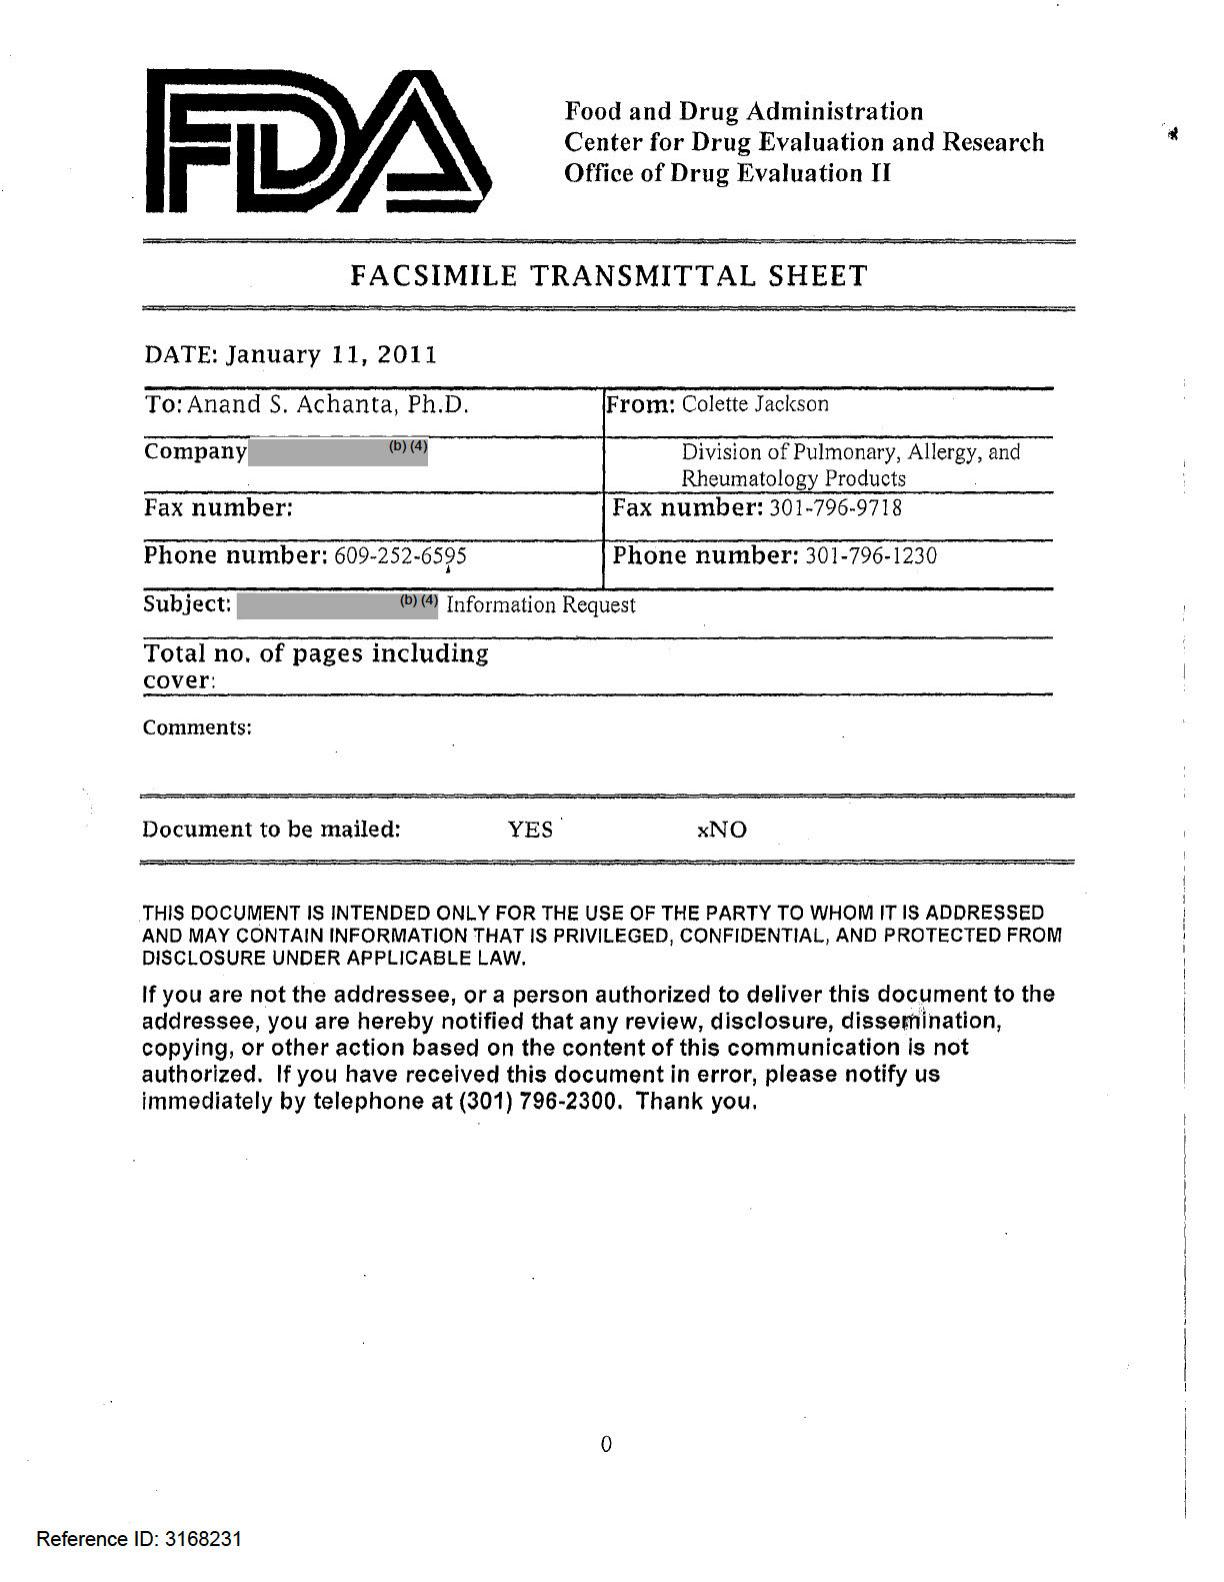partial_lined_merged_cells: (140, 302, 1081, 871)
